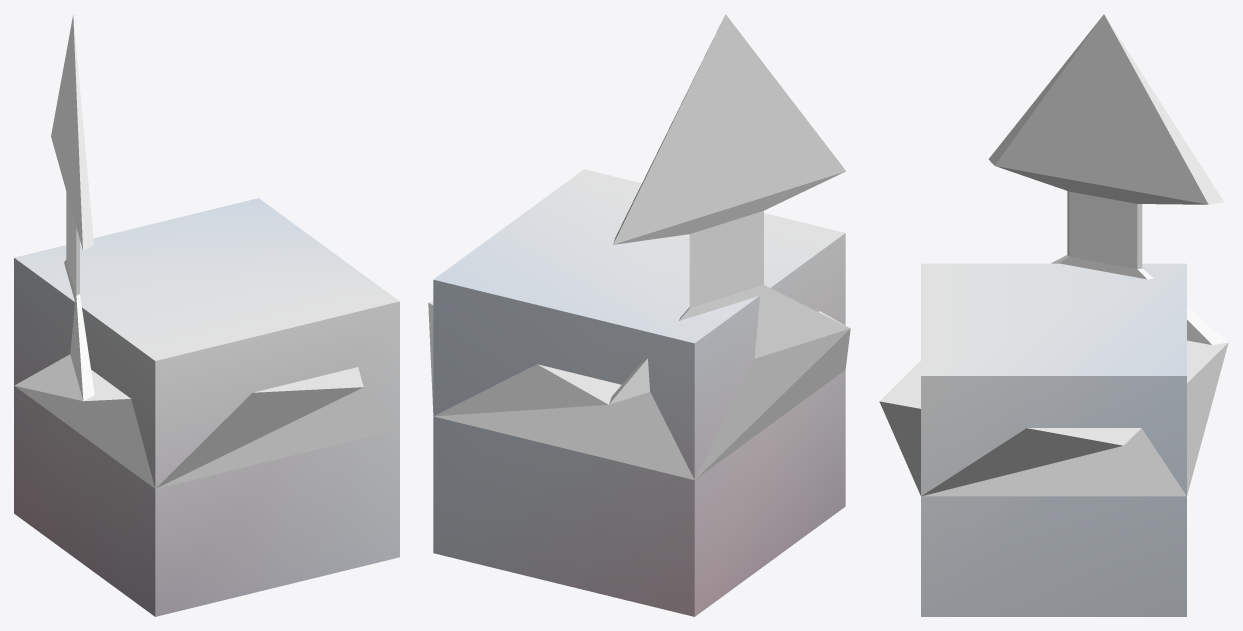
File: launch_pad.glb
3 renders of one model, left to right at view 1: azimuth 30°, elevation 25°; view 2: azimuth 150°, elevation 25°; view 3: azimuth 270°, elevation 25°, orthographic. The views are drawn at different scales.
Parts seen in each view (by area): view 1: StoneFloor_F3d, Plane; view 2: StoneFloor_F3d, Plane; view 3: StoneFloor_F3d, Plane.
Part boxes in pixels (x1,y1,x2,y2): StoneFloor_F3d: (14,198,399,616); Plane: (14,15,399,488); StoneFloor_F3d: (433,169,845,616); Plane: (428,14,850,479); StoneFloor_F3d: (921,263,1186,616); Plane: (879,14,1228,496).
Size of the model in its own units: 2.63 by 4.13 by 2.63.
